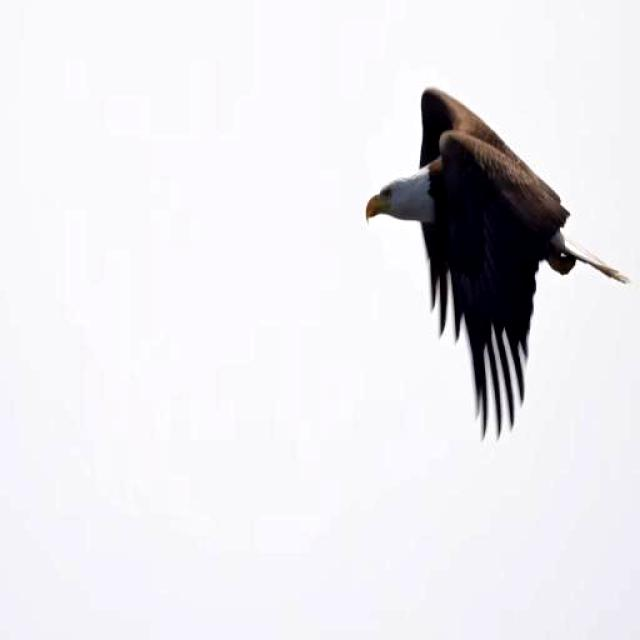airplane: (336, 75, 619, 459)
